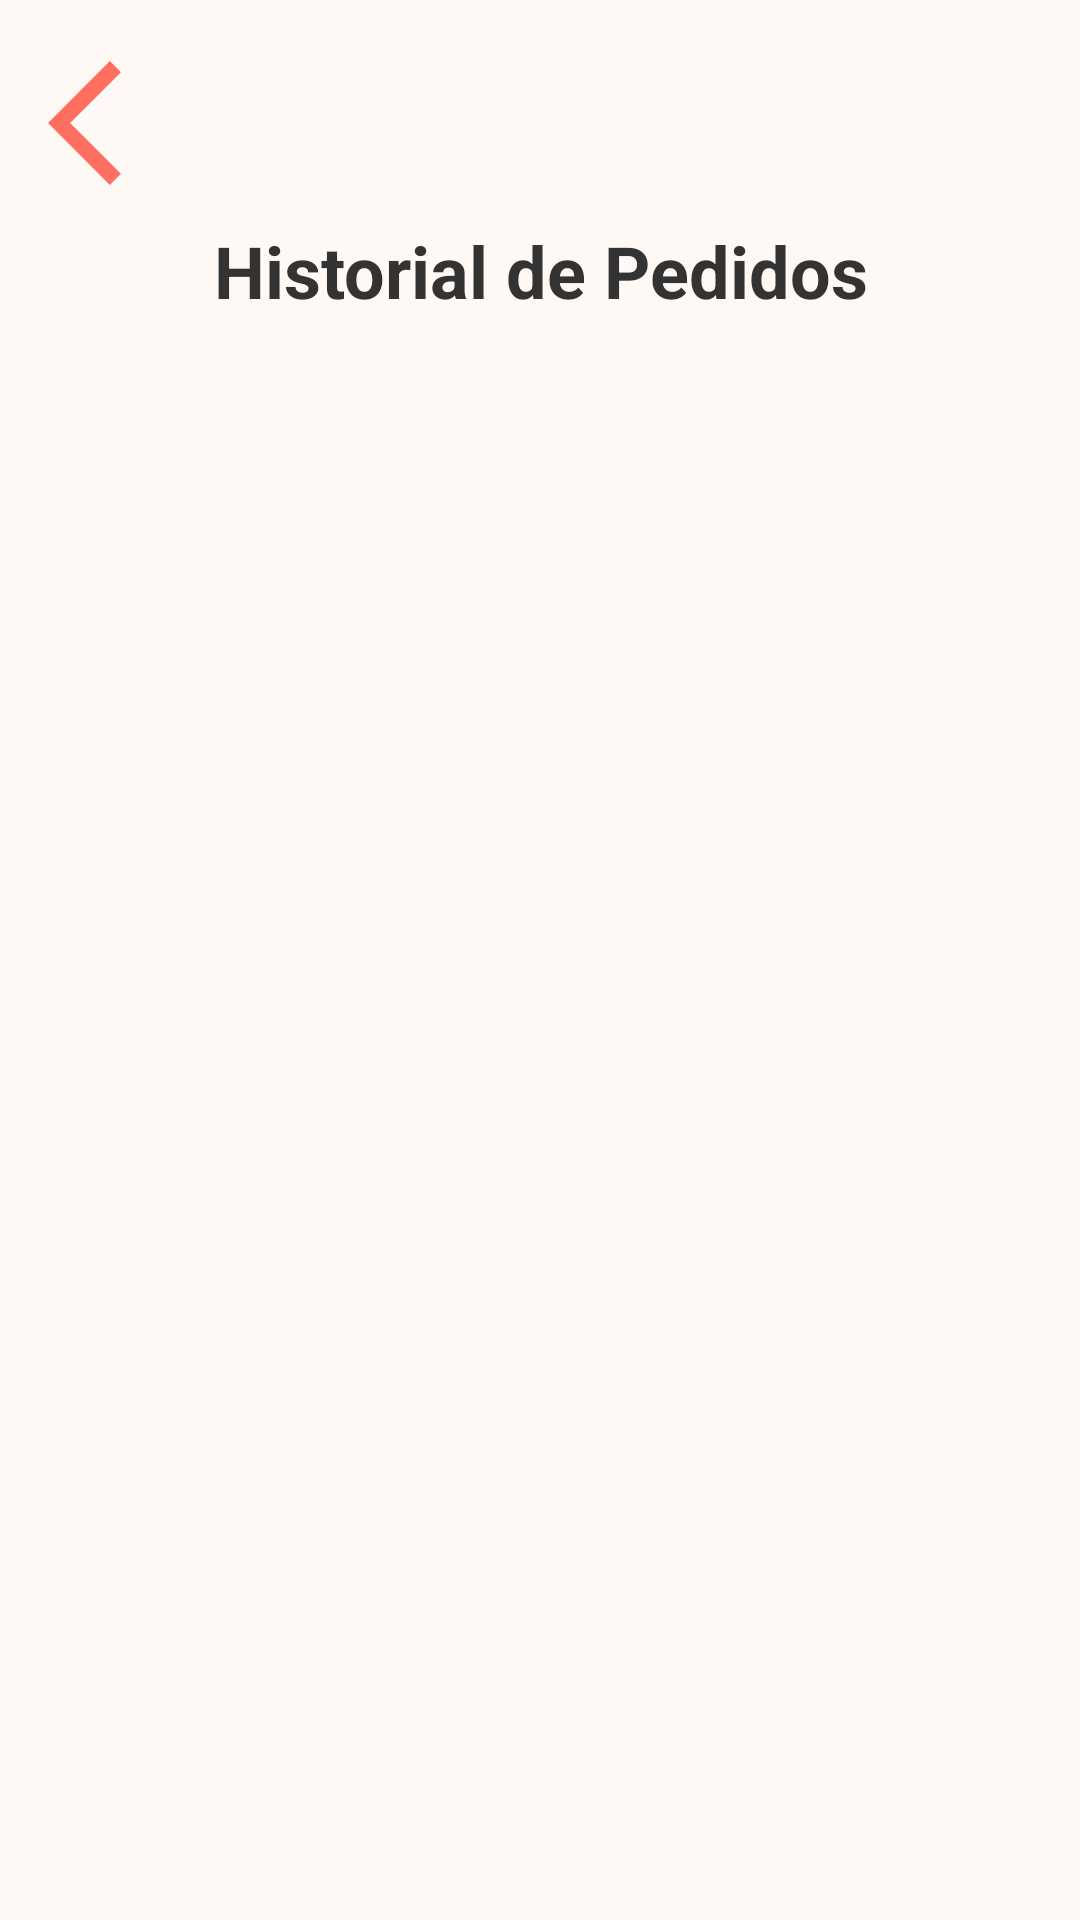

Locate icon controls on the screen. Image size 1080x1920, boxes as bbox=(x1, y1, x2, y2).
Volver: bbox=(48, 61, 121, 185)
